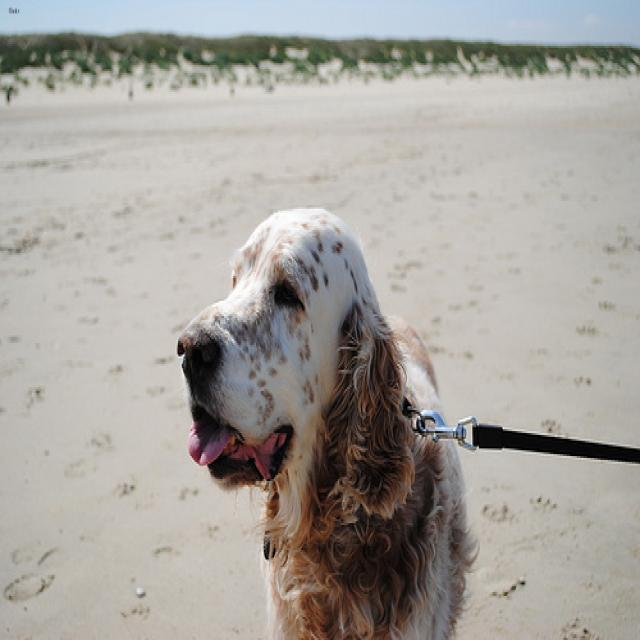dog-english_setter: (165, 197, 484, 636)
